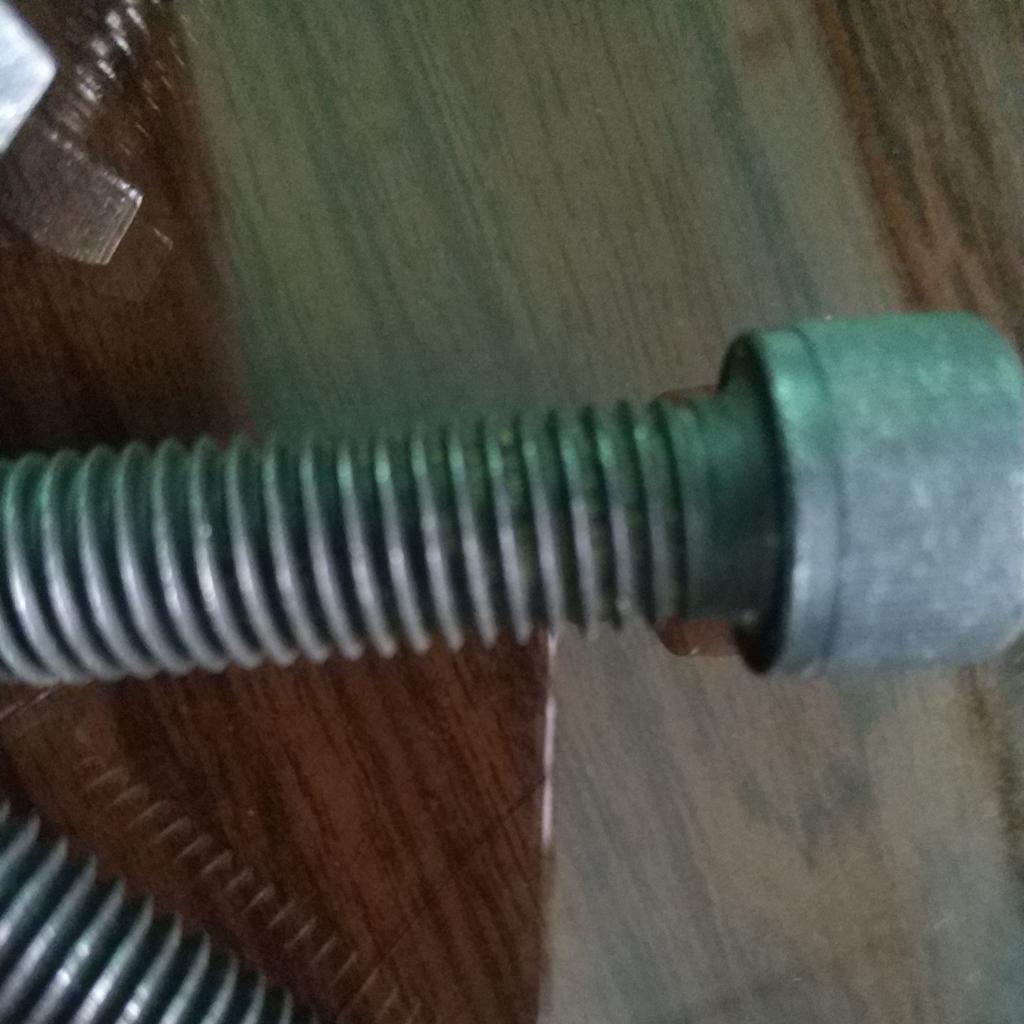screwtype1black: (1, 293, 1024, 679)
